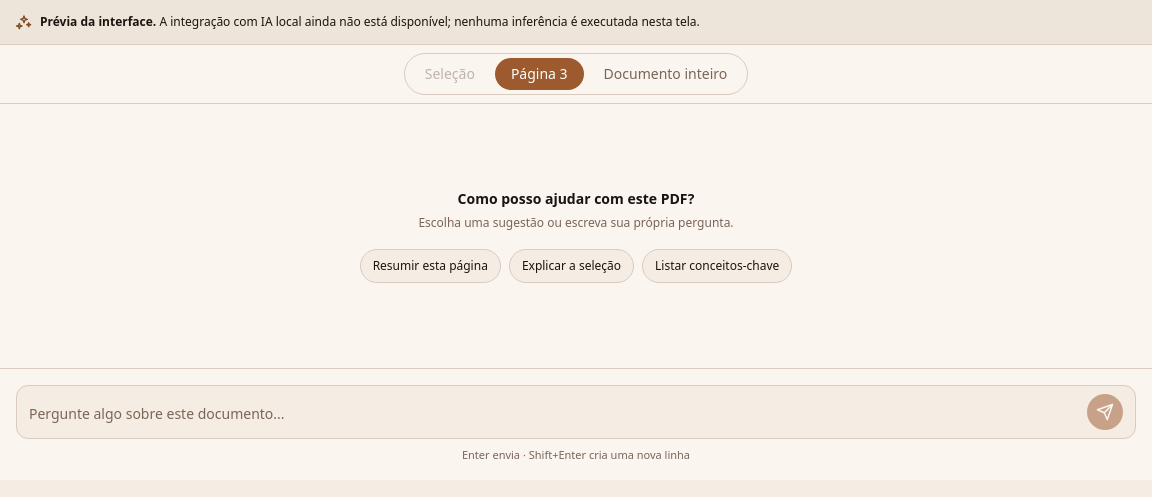
Test: AiTab › preenche o composer pela sugestão sem enviar
Click the button "Resumir esta página".
click(430, 266)  # box [360, 249, 501, 283]
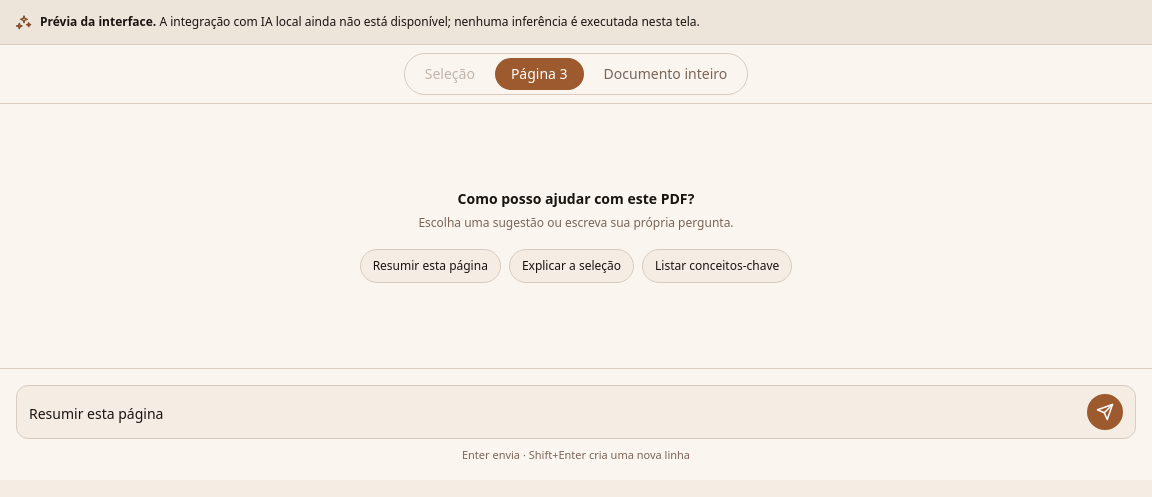
Now the text box named "Pergunta para a IA" holds "Resumir esta página", box [29, 398, 1079, 430]
